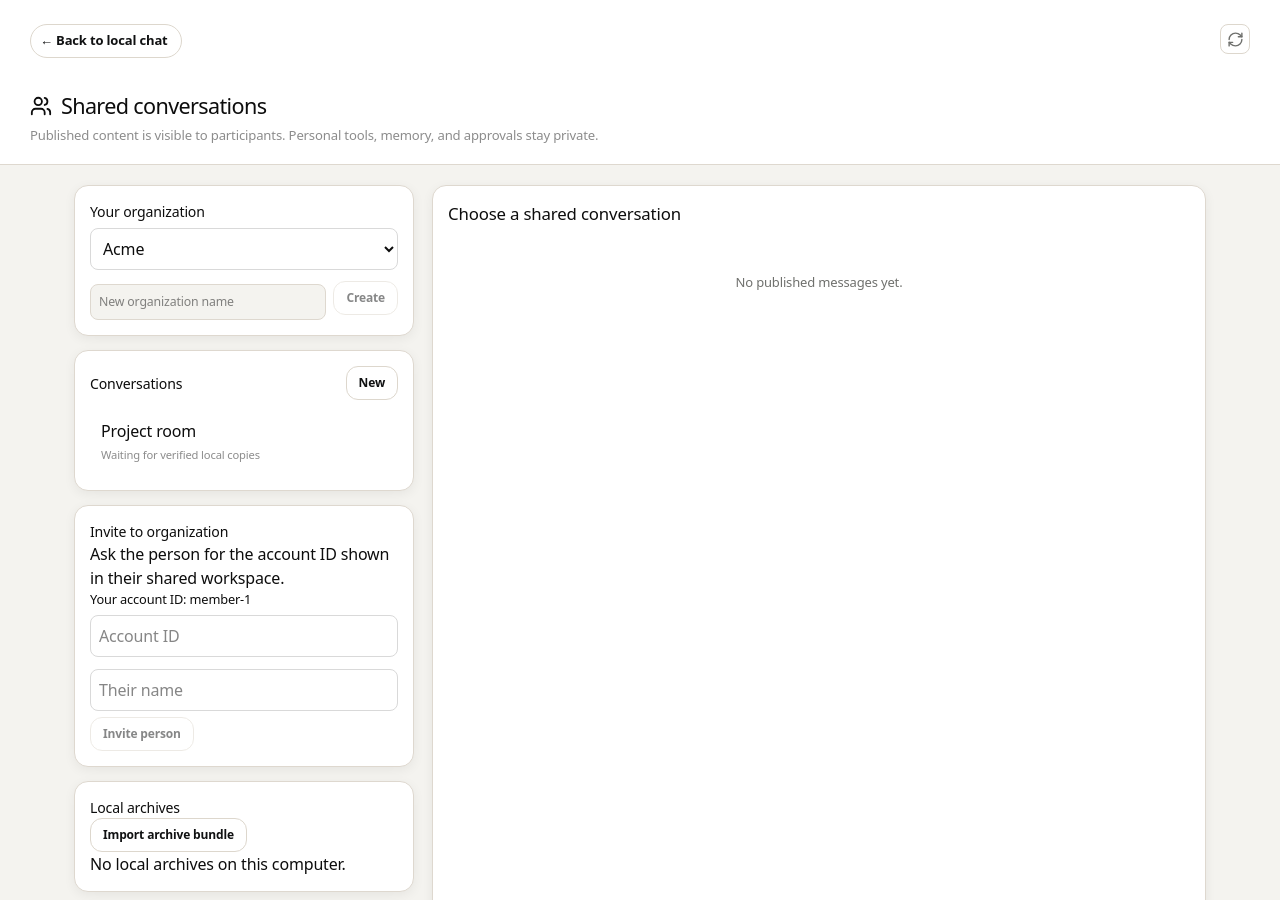
Test: SharedWorkspace collaboration states › shows archive waiting participants and disables the composer
Click the button "Project room Waiting for verified local copies". click: (149, 431)
box: [90,408,398,475]
(page scrolled)
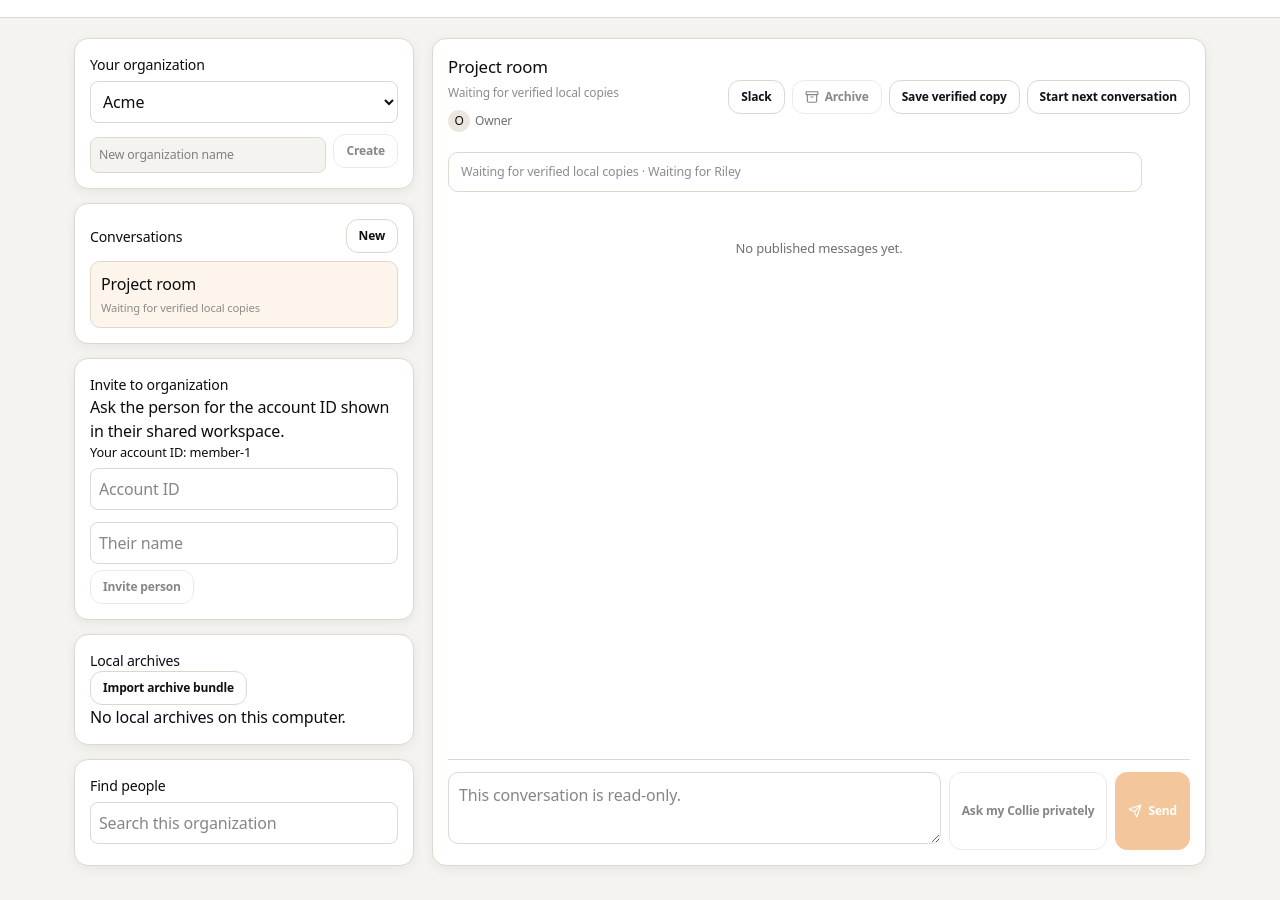
Check: the text "Waiting for Riley" is shown, box [639,163,741,180]
Check: the text box named "Shared message" is disabled, box [448,772,941,844]
